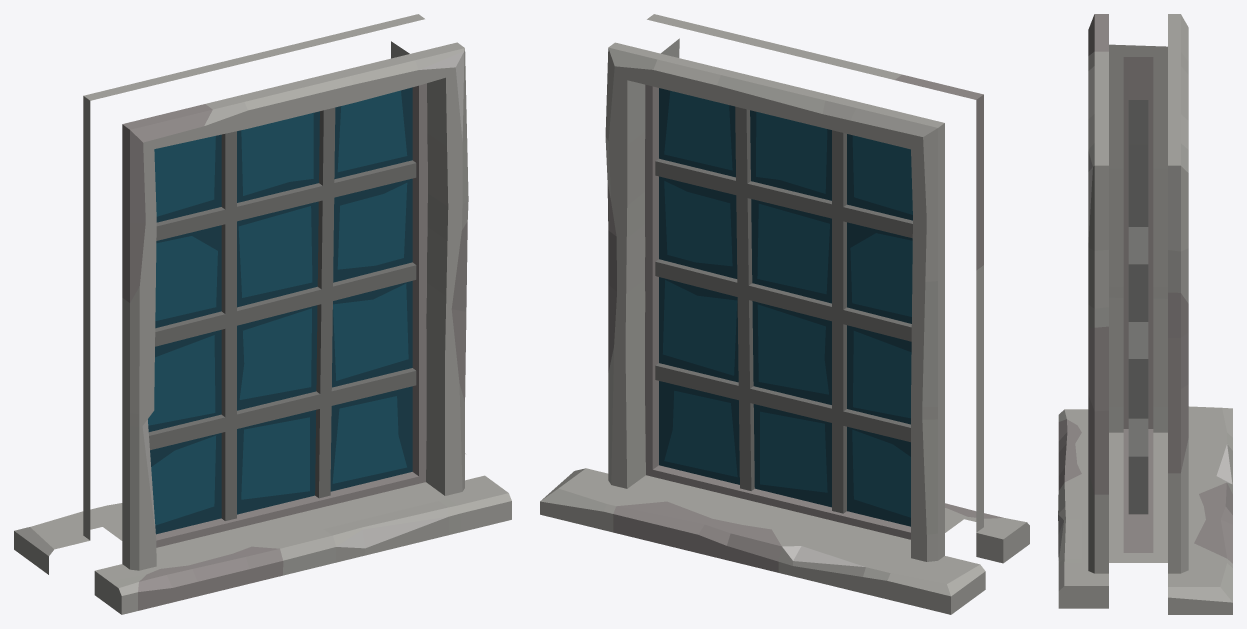
File: SM_Window_A.gltf
The picture shows the model from 3 angles, left to right: view 1: azimuth 30°, elevation 25°; view 2: azimuth 150°, elevation 25°; view 3: azimuth 270°, elevation 25°; orthographic projection. The views are drawn at different scales.
Parts seen in each view (by area): view 1: SM_Window_A; view 2: SM_Window_A; view 3: SM_Window_A.
Part boxes in pixels (x1,y1,x2,y2): SM_Window_A: [14, 14, 511, 614]; SM_Window_A: [540, 14, 1029, 614]; SM_Window_A: [1058, 14, 1232, 614].
Size of the model in its own units: 1.52 by 1.61 by 0.592.
2 materials, 2 textured.
